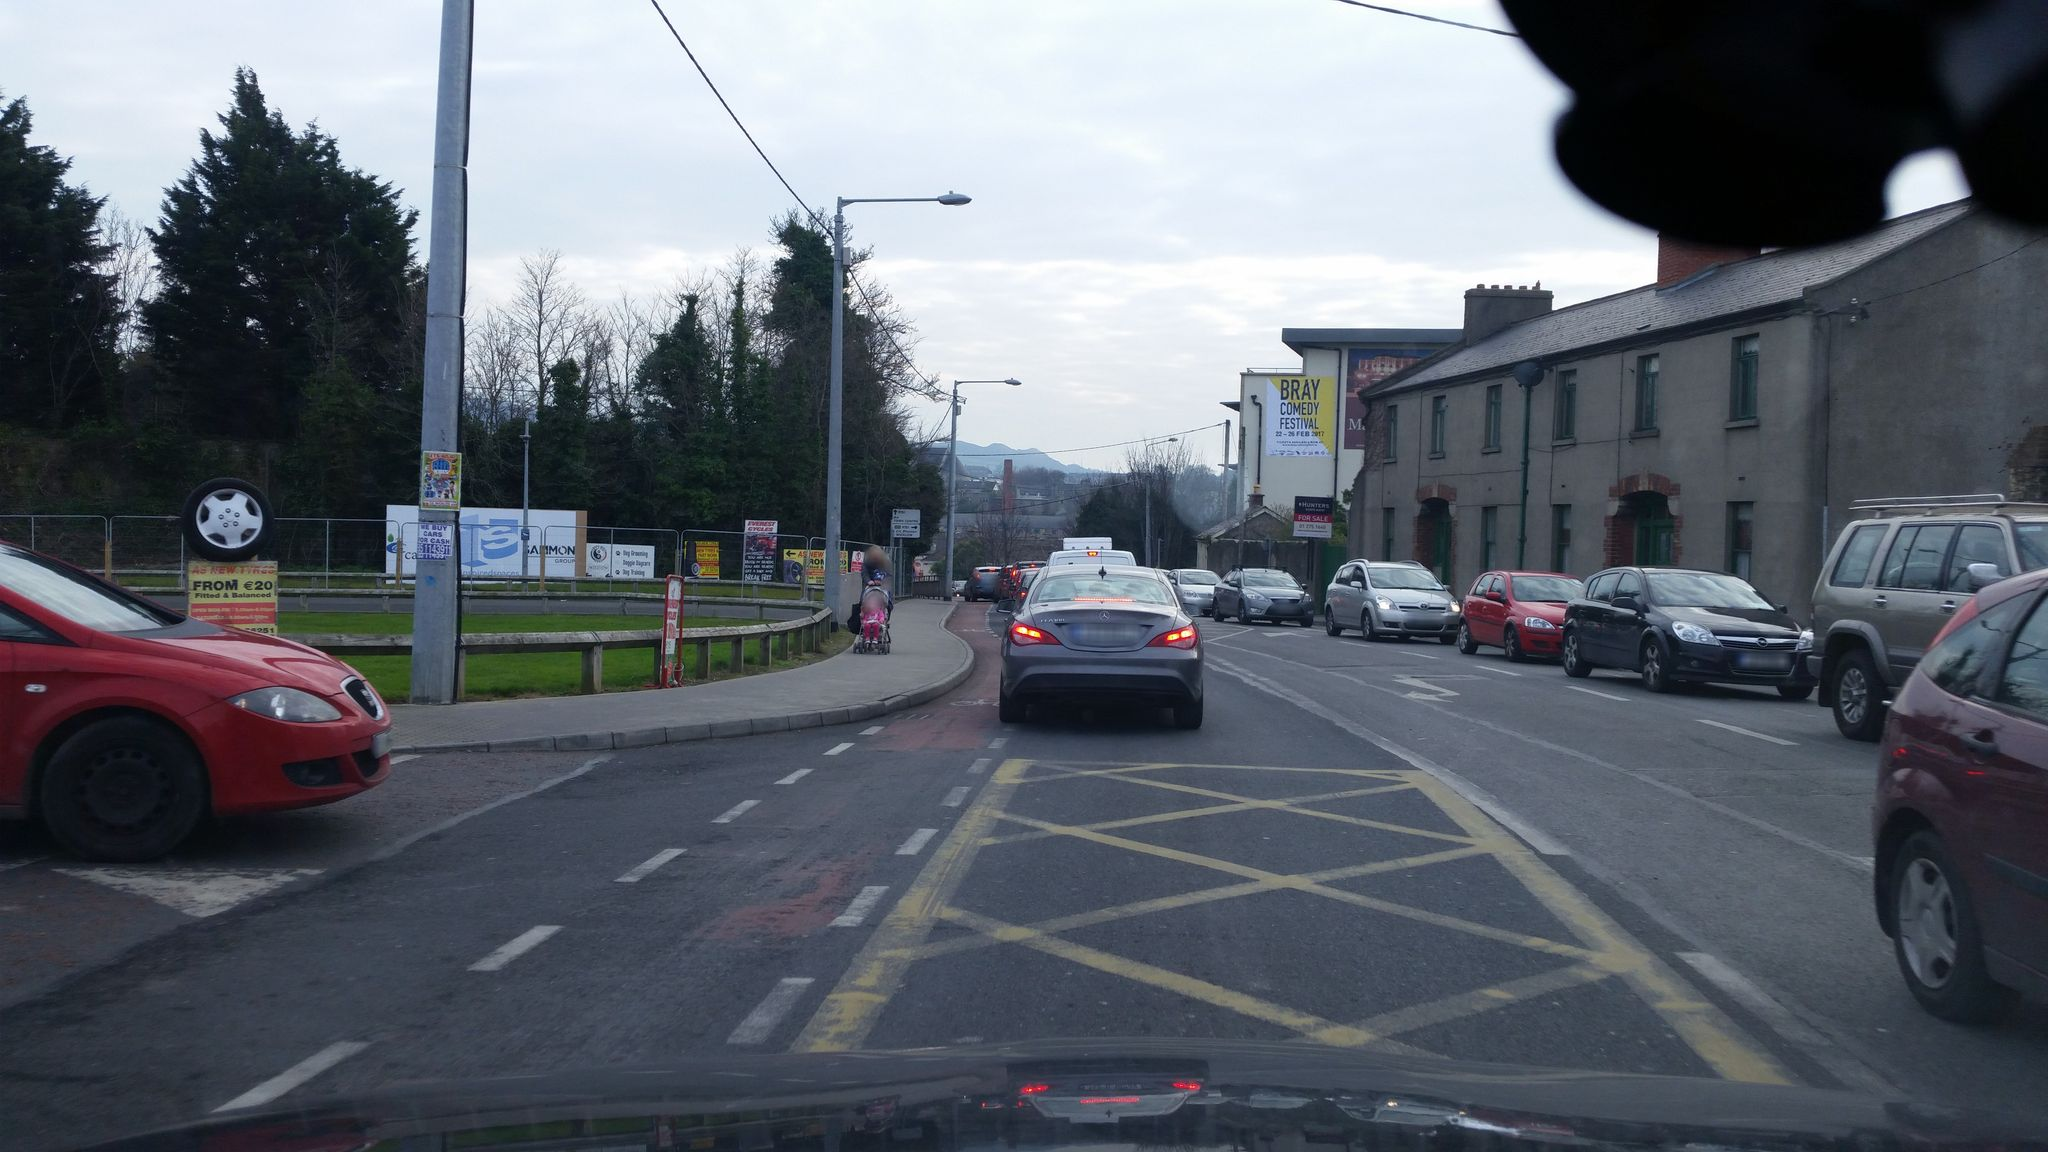property sign: (1273, 485, 1349, 563)
